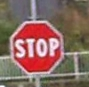stop: (10, 17, 63, 75)
